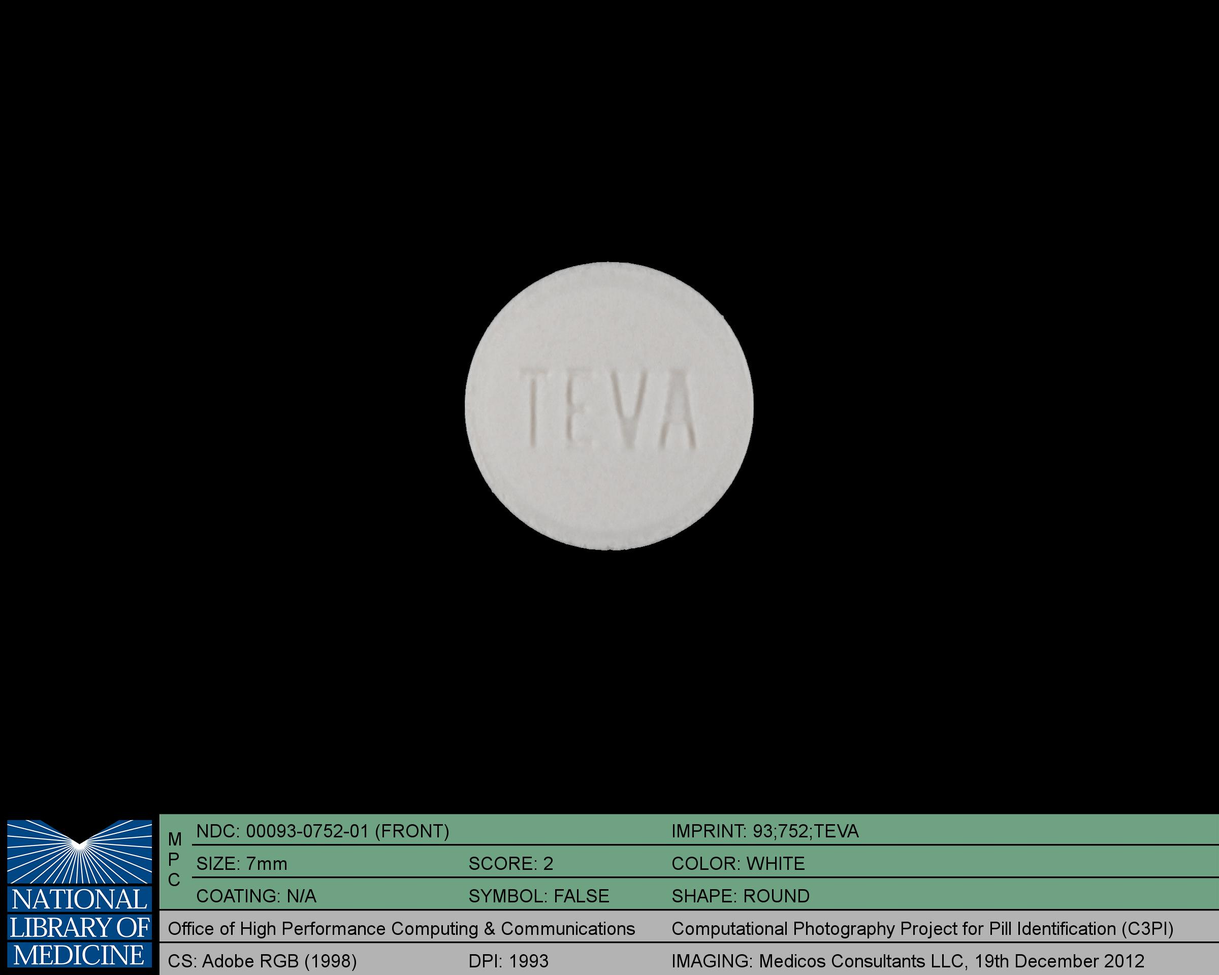Pill: (449, 249, 765, 559)
